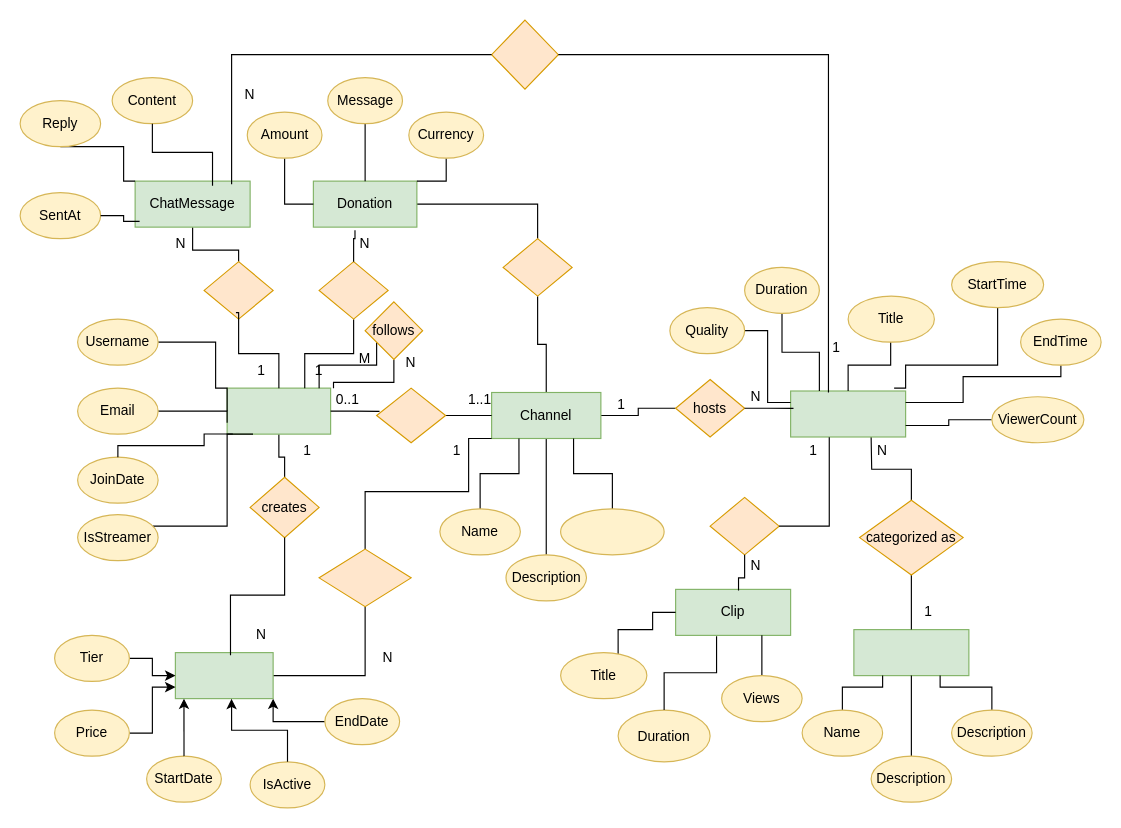
Some shapes in this 1121 by 828 pixel diagram are drawn without their labels. Here are the shapes that lost their labels. From the top down, the centre of each, then its label:
At pixel 524 54: "in".
At pixel 537 266: "receives".
At pixel 238 289: "posts".
At pixel 353 289: "makes".
At pixel 278 410: "User".
At pixel 410 415: "owns".
At pixel 847 413: "Stream".
At pixel 611 531: "FollowersCount".
At pixel 744 525: "has".
At pixel 364 577: "belongs_to".
At pixel 911 652: "Category".
At pixel 223 675: "Subscription".
